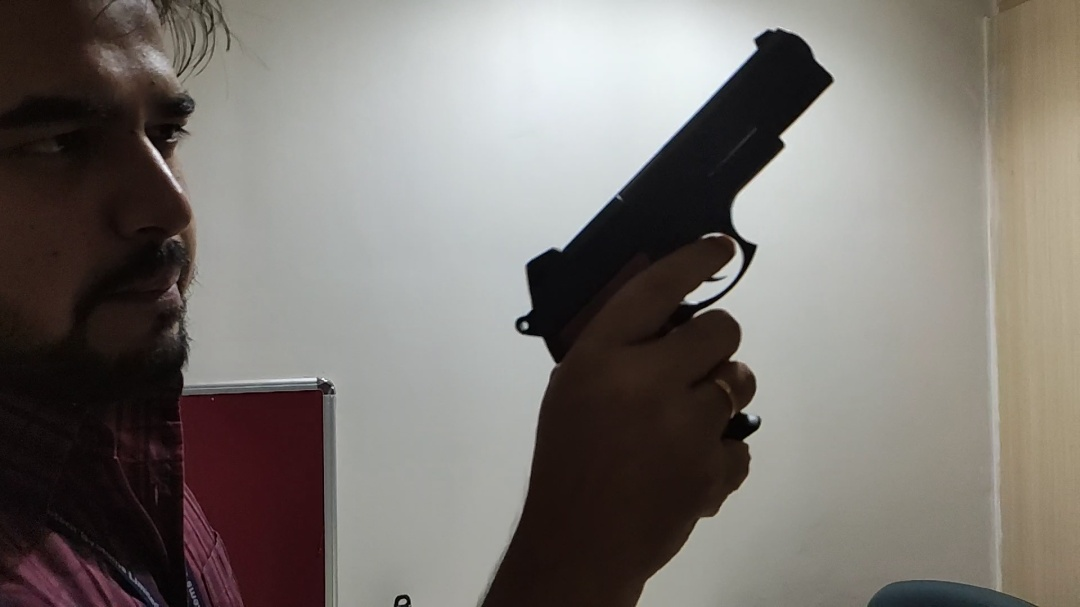gun: (513, 24, 842, 452)
